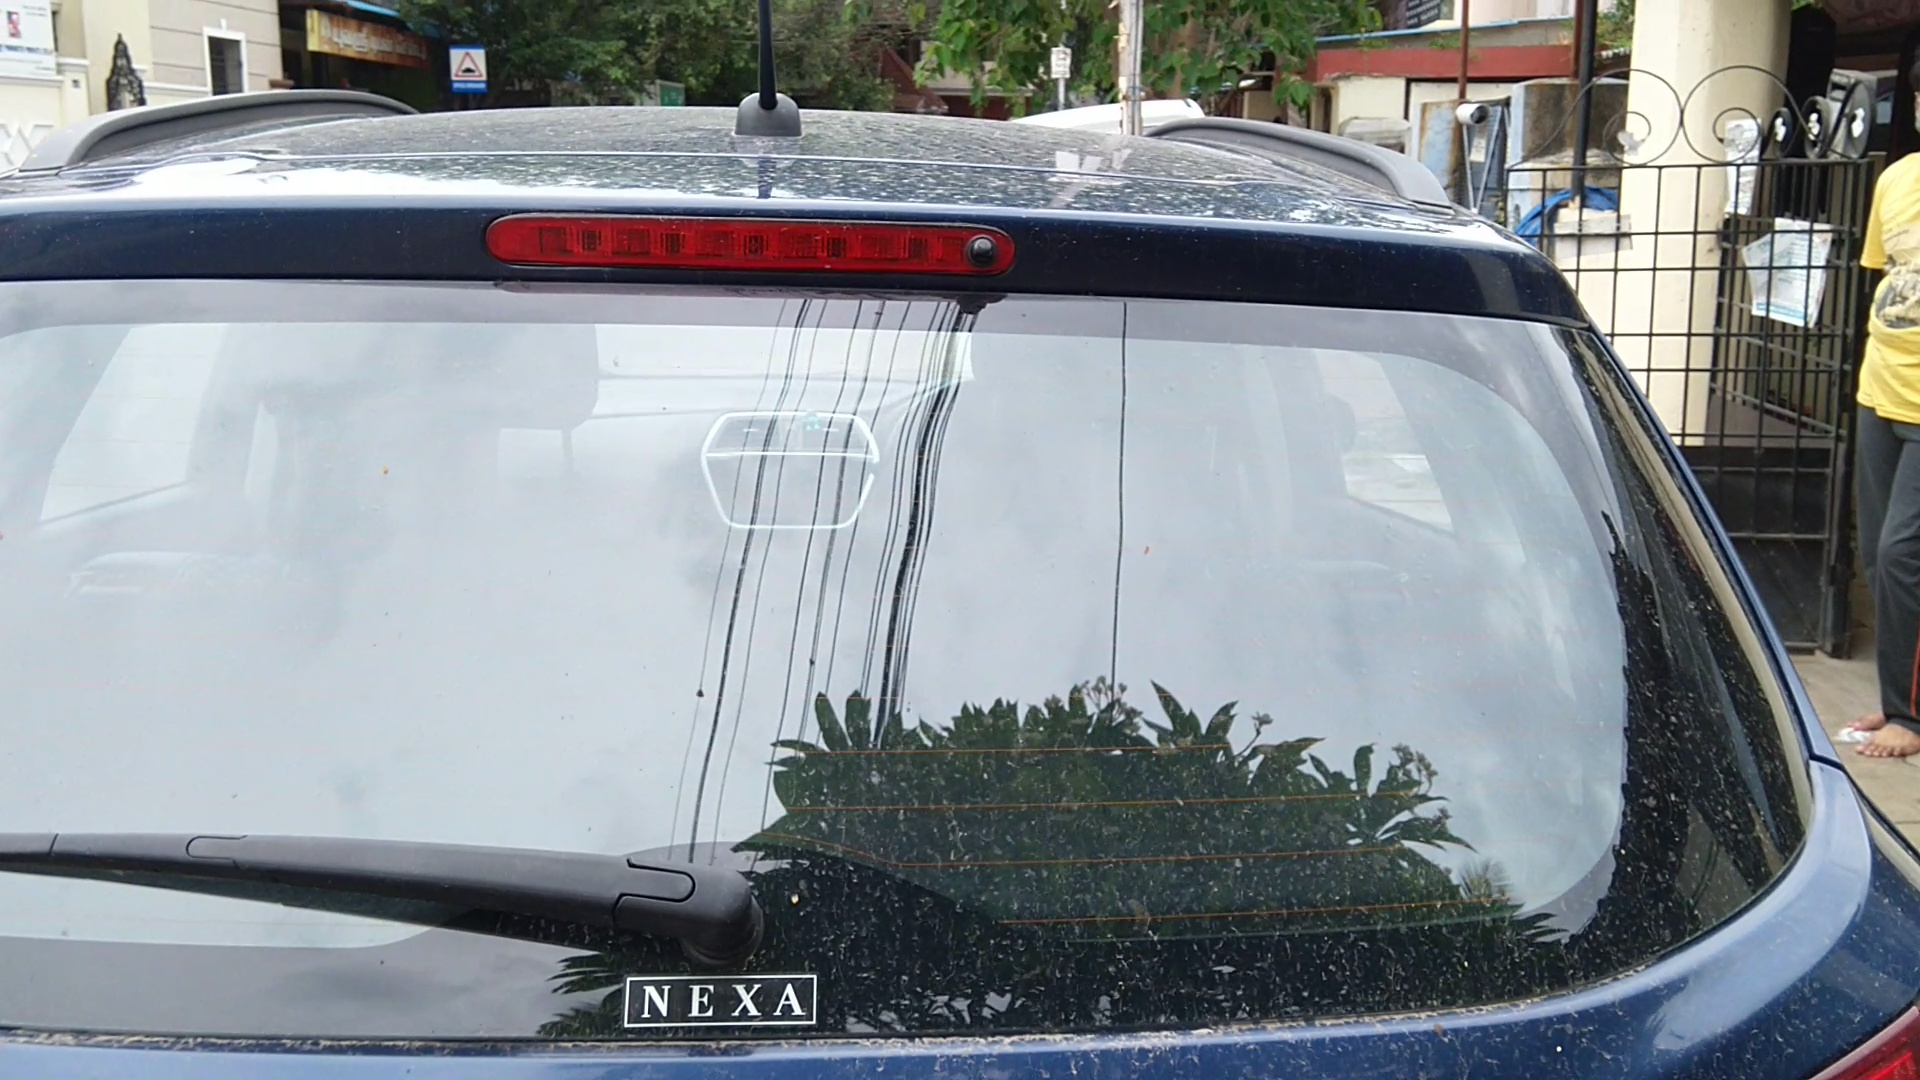rear_camera: (961, 228, 1011, 272)
